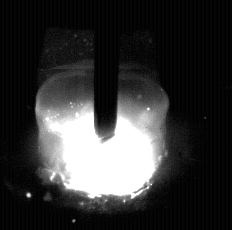arame: (95, 0, 119, 141)
poca: (38, 0, 168, 230)
